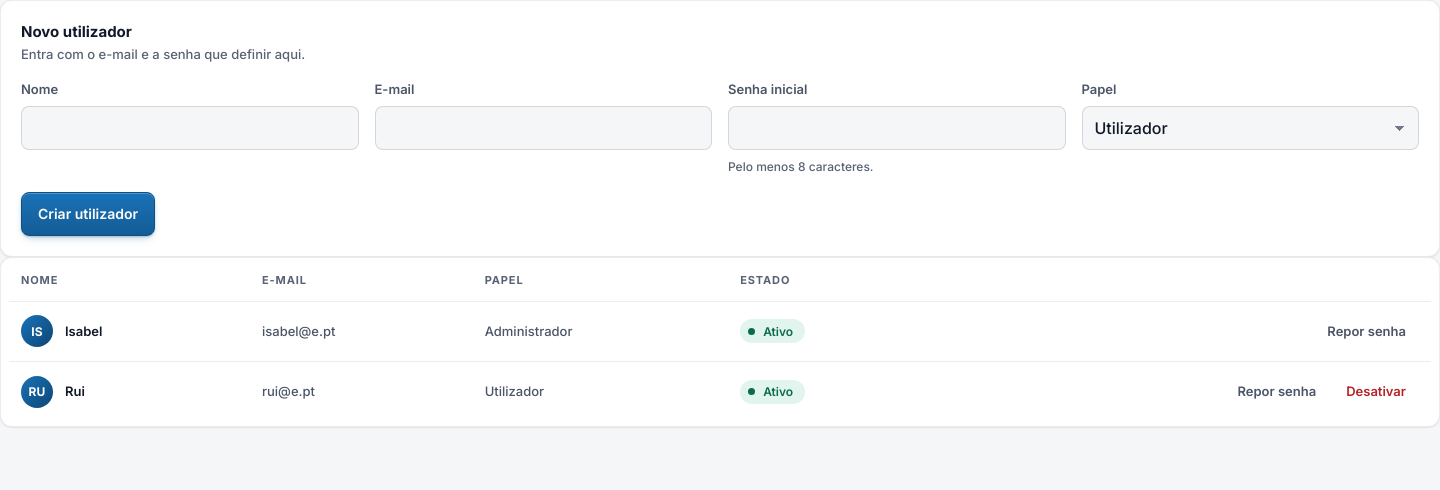
it: UsersManager › desativa depois de confirmar, e não deixa desativar a própria conta
Click the button "Desativar".
click(1376, 392)  # box [1333,374,1419,410]
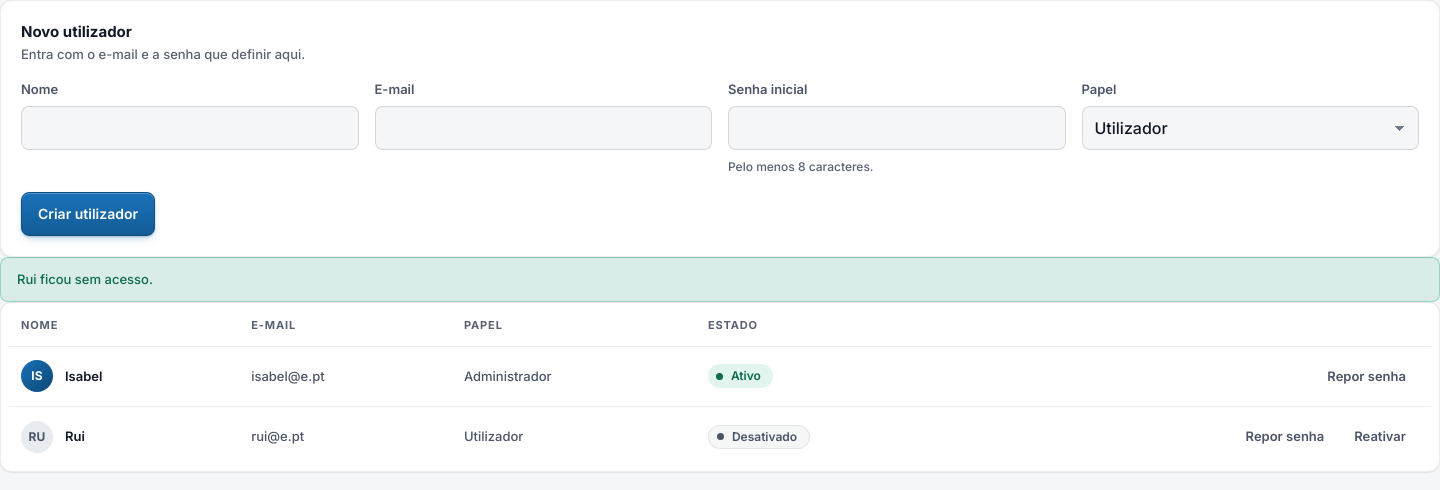
Check: the text "Desativado" is shown, box [732,428,797,445]
Check: the button "Reativar" is shown, box [1341,419,1419,455]
